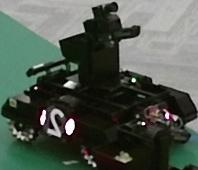armor_2: (40, 109, 75, 135)
right_2: (45, 104, 67, 139)
